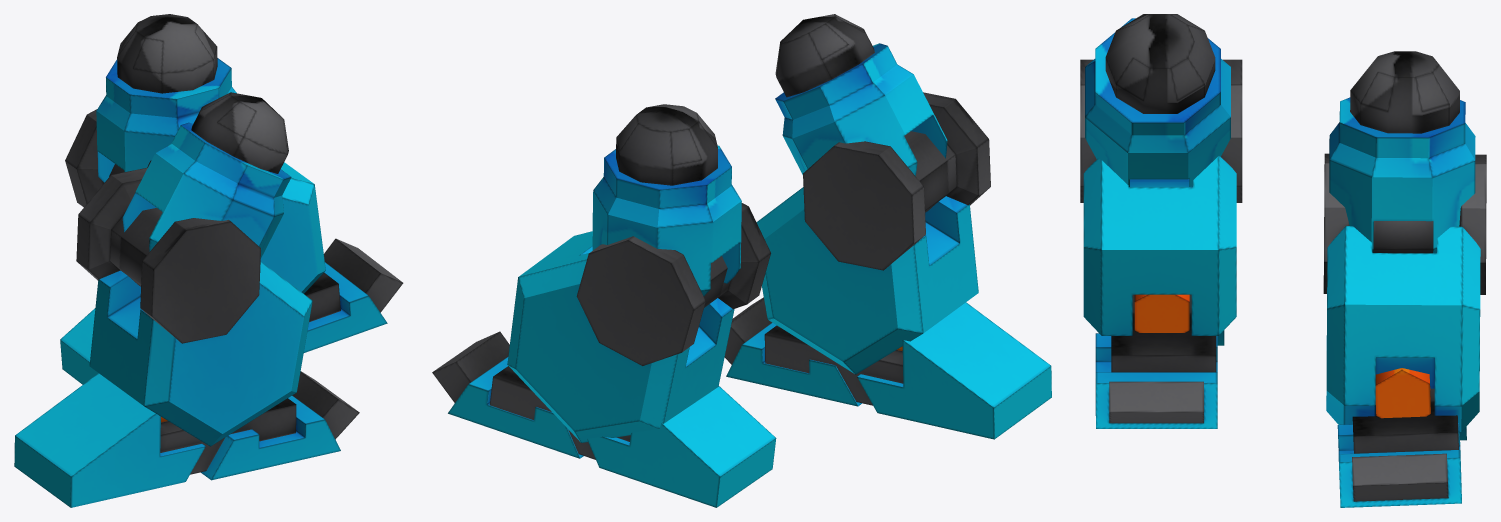
File: Bottom_Idle26.obj
The picture shows the model from 3 angles, left to right: view 1: azimuth 30°, elevation 25°; view 2: azimuth 150°, elevation 25°; view 3: azimuth 270°, elevation 25°; orthographic projection. The views are drawn at different scales.
Visible parts, largest first — view 1: Object013, Object014, Object012, Object009, Object011, Object010; view 2: Object013, Object010, Object014, Object011, Object009, Object012; view 3: Object010, Object013, Object009, Object012, Object014, Object011.
Part boxes in pixels (x1,y1,x2,y2): Object013: (76,167,312,446); Object014: (14,371,359,507); Object012: (122,92,291,258); Object009: (96,14,236,182); Object011: (60,238,403,384); Object010: (65,109,325,293); Object013: (756,92,990,374); Object010: (507,203,770,442); Object014: (724,297,1051,439); Object011: (432,331,776,507); Object009: (592,104,741,296); Object012: (775,14,947,176); Object010: (1323,153,1486,431); Object013: (1080,59,1242,335); Object009: (1329,51,1475,253); Object012: (1085,14,1230,186); Object014: (1095,294,1224,428); Object011: (1337,368,1466,507).
Size of the model in its own units: 130 by 102 by 94.65.
